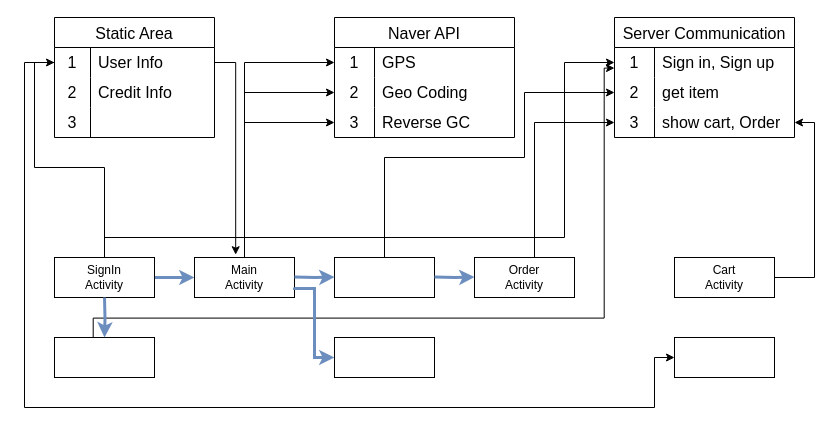
The diagram is 840 pixels wide and 433 high, and some of its shapes have lost their labels. The shapes that lost their labels are listed below. From the top down, each one's centre as x and y in pixels, then its label:
At pixel 384 277: "Shopping Activity".
At pixel 104 357: "SignUp Activity".
At pixel 384 357: "Score Activity".
At pixel 724 357: "MyPage Activity".
